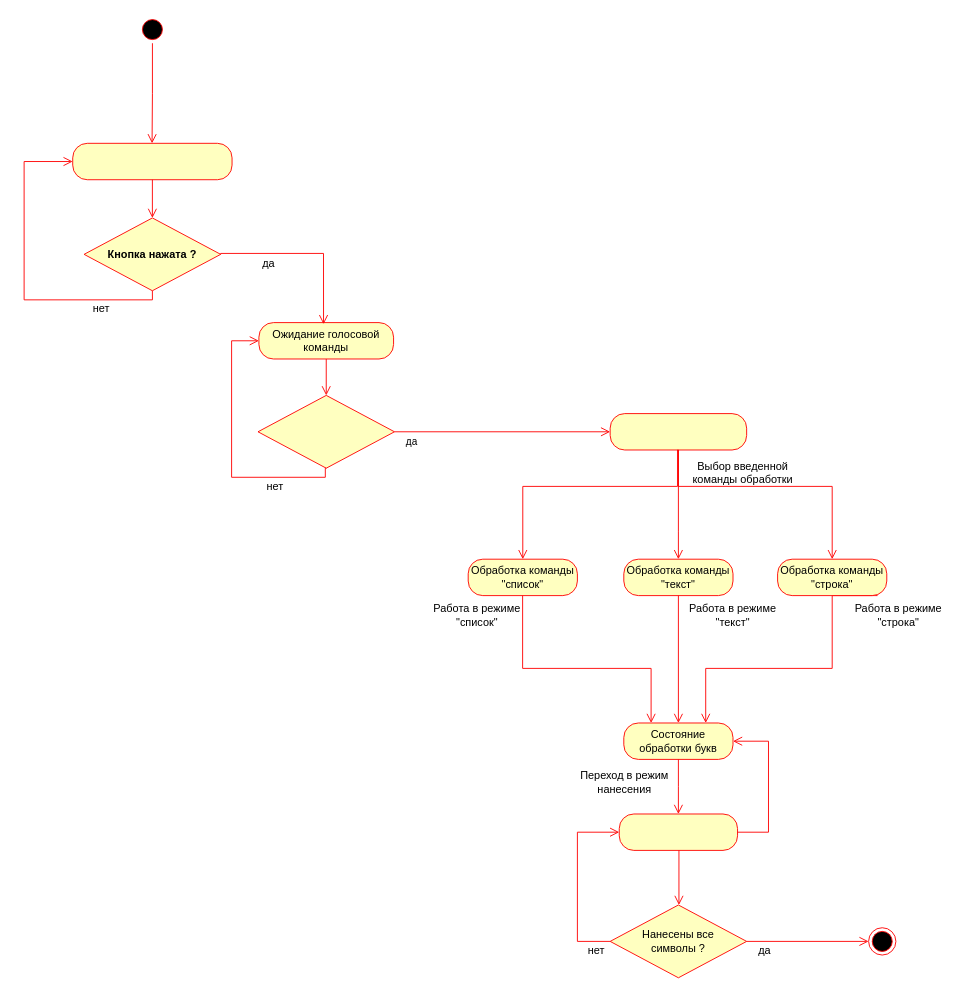
Some shapes in this 980 by 994 pixel diagram are drawn without their labels. The centre of each missing label's shape, as x and y in pixels:
"Команда получена ?" belongs at (325,431).
"нанесение символa" belongs at (678,831).
"Обработка звуковых данных" belongs at (678,431).
"Ожидание нажаия кнопки" belongs at (152,161).
